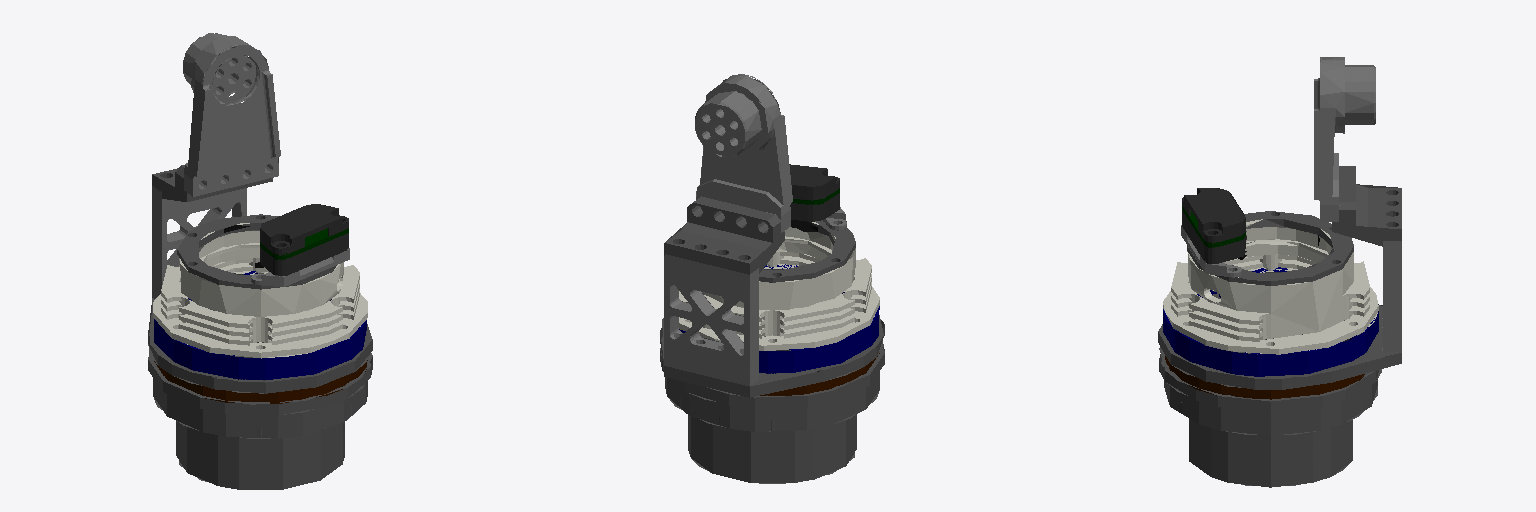
3 renders of one model, left to right at view 1: azimuth 30°, elevation 25°; view 2: azimuth 150°, elevation 25°; view 3: azimuth 270°, elevation 25°, orthographic.
Bounding box in the file's own units: 0.073 × 0.1401 × 0.079.
Materials: 1 (1 with a texture image).